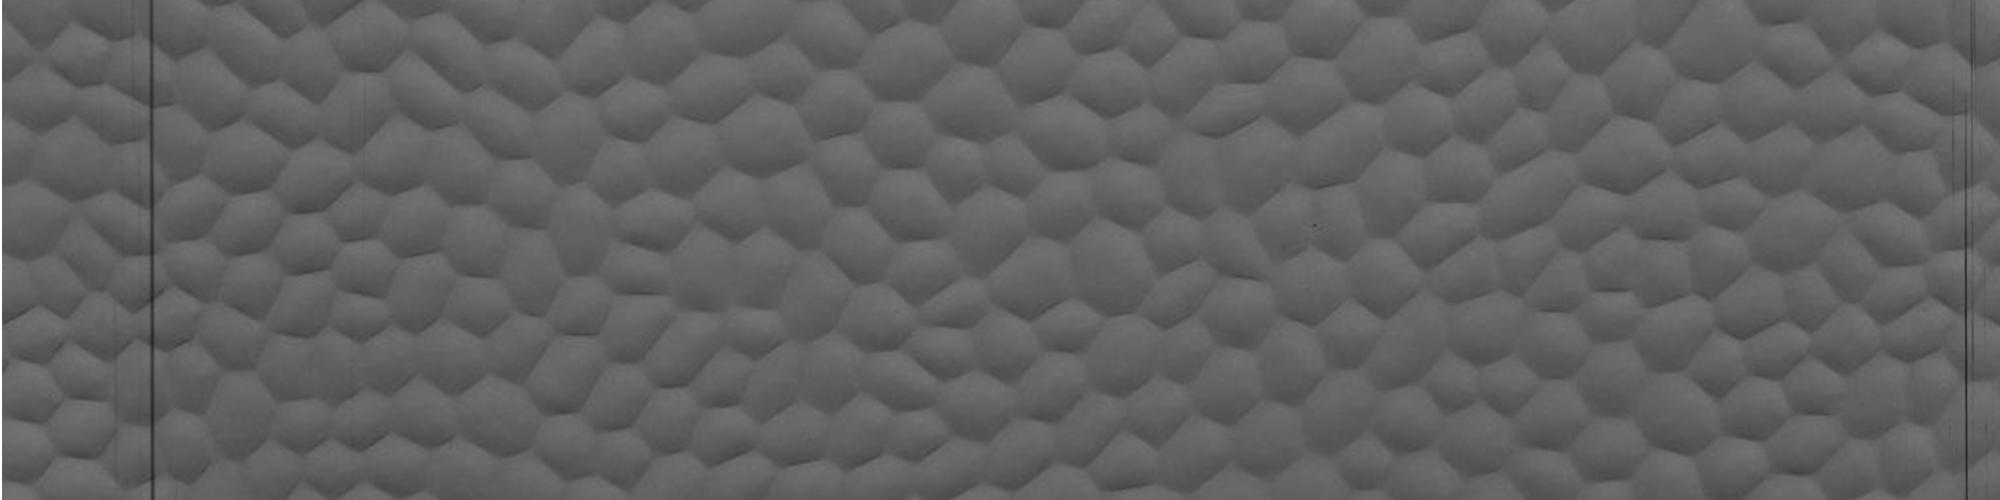DieDrag: (119, 0, 175, 499), (1945, 4, 1994, 497), (342, 3, 390, 196)
